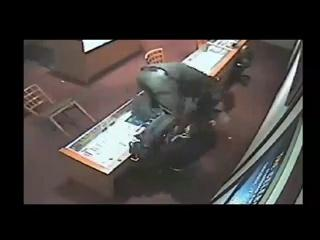shoplifting: (105, 56, 241, 182)
